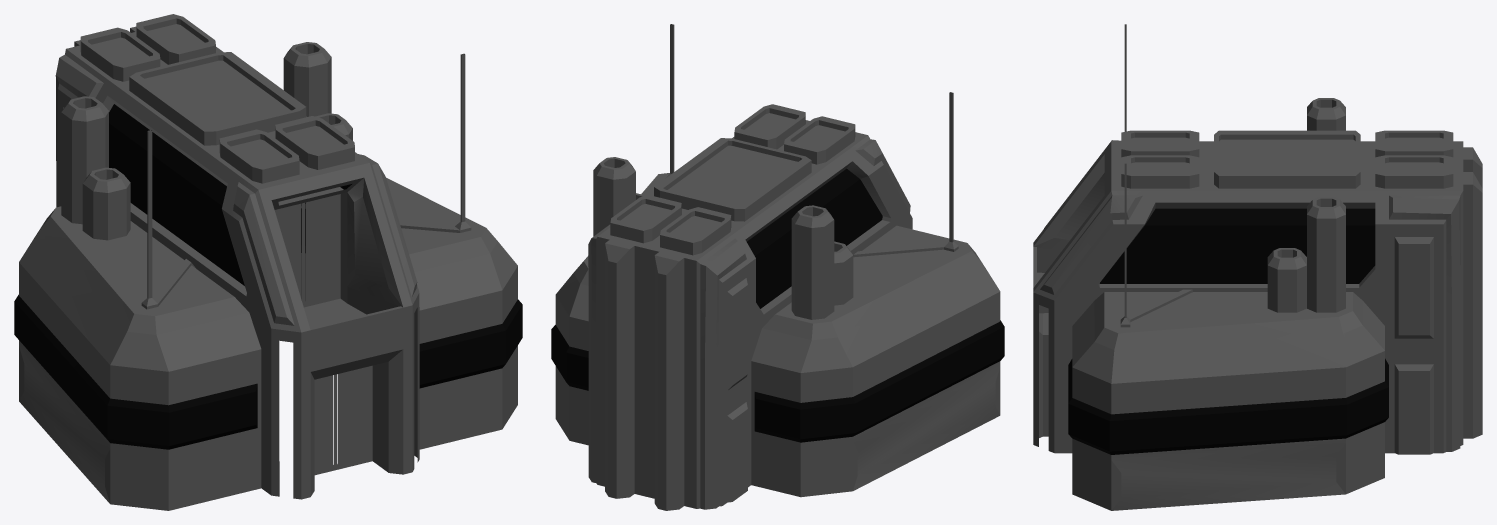
Rendered from Apartment_lvl1_4.dae.
3 renders of one model, left to right at view 1: azimuth 30°, elevation 25°; view 2: azimuth 150°, elevation 25°; view 3: azimuth 270°, elevation 25°, orthographic. The views are drawn at different scales.
Visible parts, largest first — view 1: Apartment_lvl1_4; view 2: Apartment_lvl1_4; view 3: Apartment_lvl1_4.
Boxes of the visible parts, bbox=[...] form: Apartment_lvl1_4: bbox=[14, 14, 522, 510]; Apartment_lvl1_4: bbox=[551, 24, 1004, 510]; Apartment_lvl1_4: bbox=[1033, 24, 1482, 510].
Bounding box in the file's own units: 19.74 × 20.27 × 16.69.
